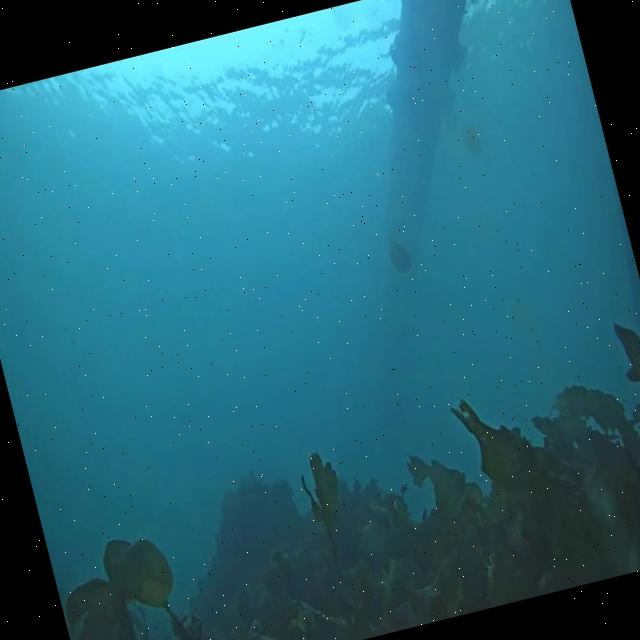fish: (385, 240, 412, 276)
